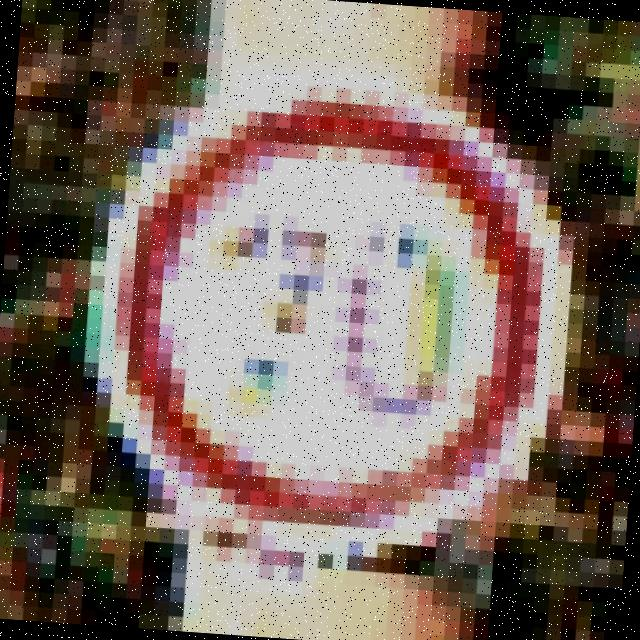Ograniczenie predkosci do 70: (89, 77, 562, 558)
